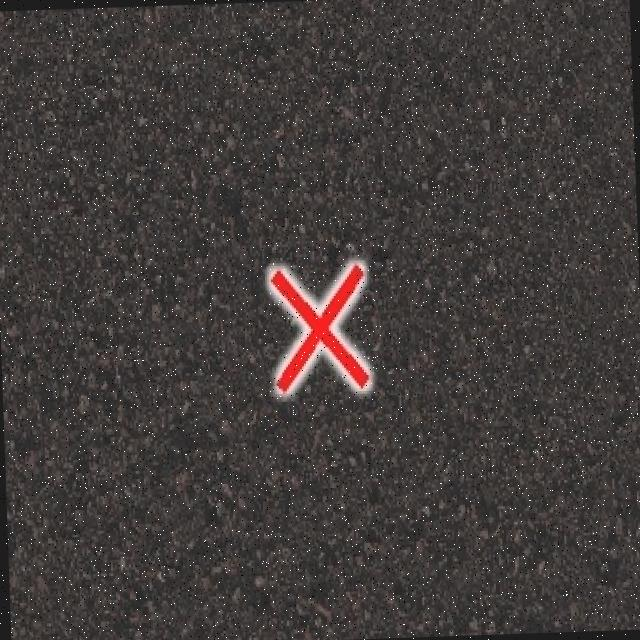x_marker: (269, 264, 367, 389)
